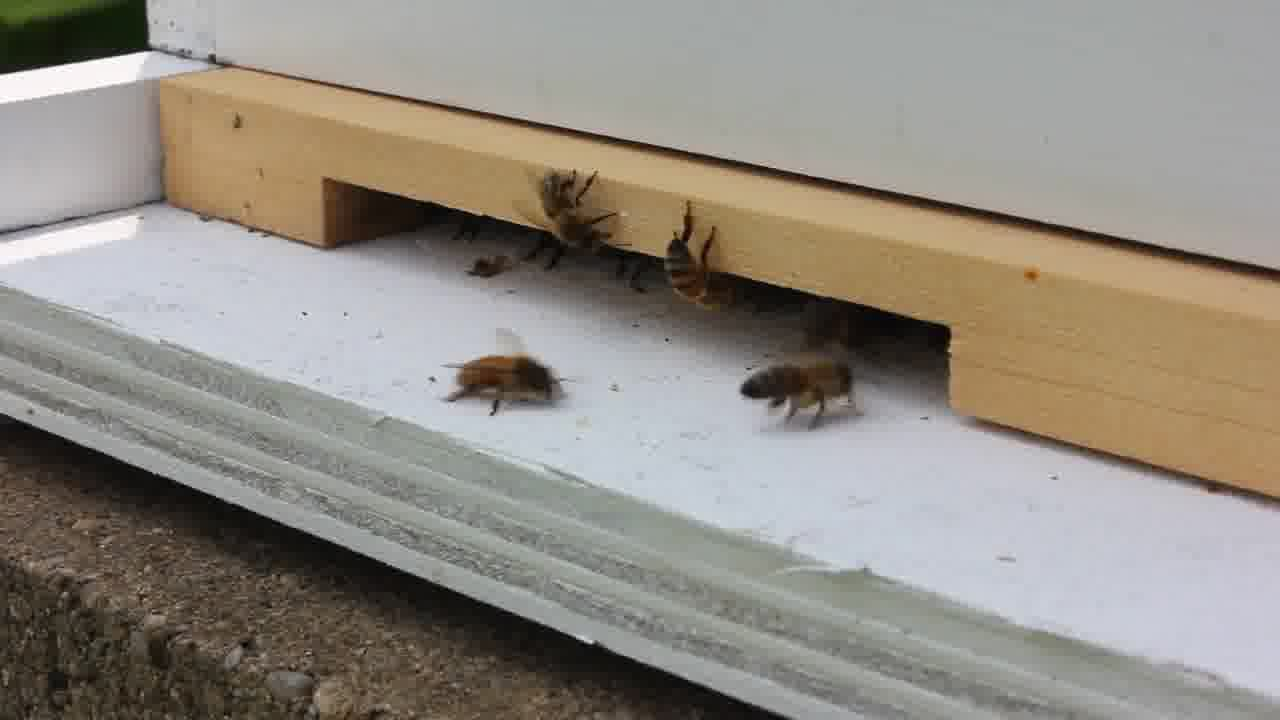pollen: (738, 360, 871, 429)
